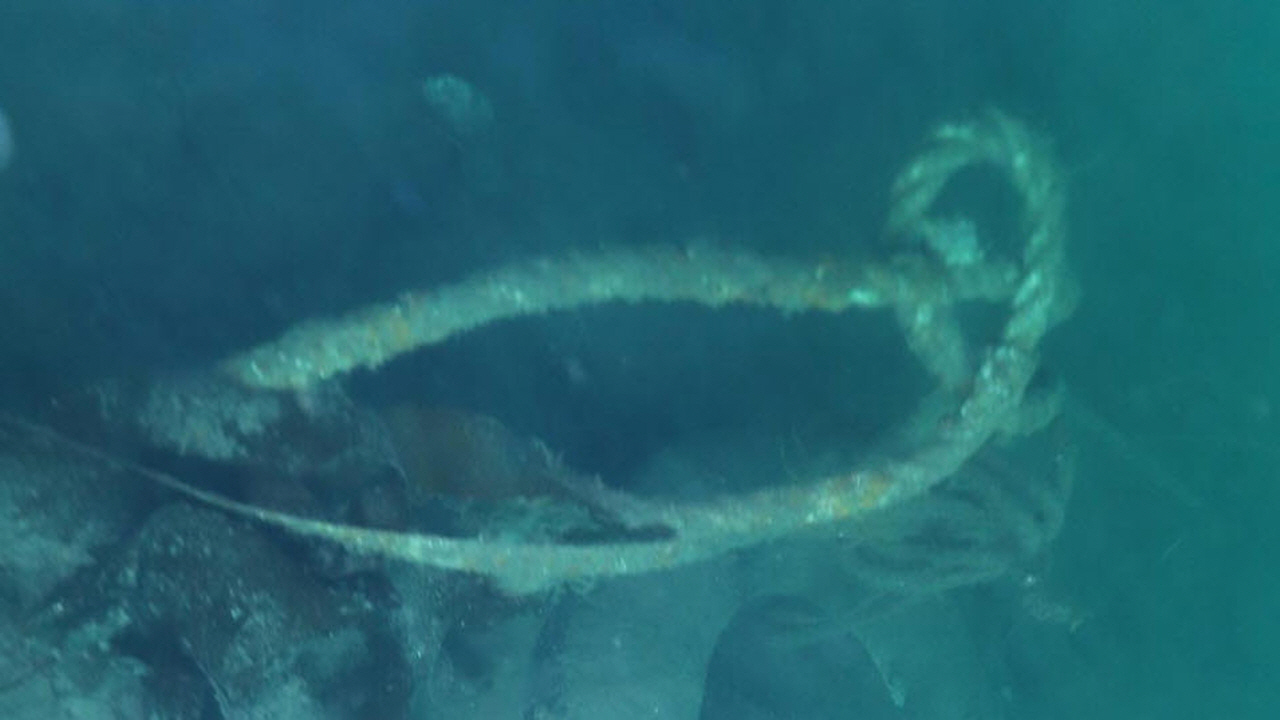bundle of ropes: (215, 101, 1085, 598)
